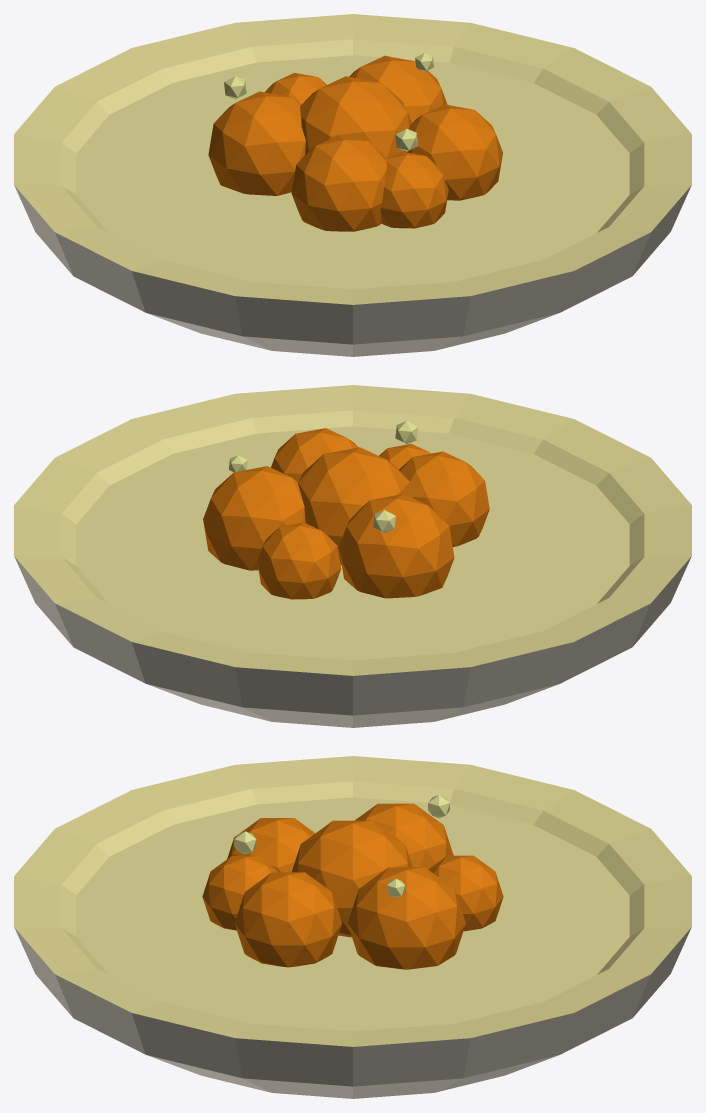
Rendered from Sun_Bowl.glb.
The picture shows the model from 3 angles, top to bottom: view 1: azimuth 30°, elevation 25°; view 2: azimuth 150°, elevation 25°; view 3: azimuth 270°, elevation 25°; orthographic projection.
Visible parts, largest first — view 1: _I_SunBowl; view 2: _I_SunBowl; view 3: _I_SunBowl.
Boxes of the visible parts, x1,y1,x2,y2 form: _I_SunBowl: [14, 14, 691, 356]; _I_SunBowl: [14, 385, 691, 727]; _I_SunBowl: [14, 756, 691, 1098].
Size of the model in its own units: 0.64 by 0.2 by 0.6303.
